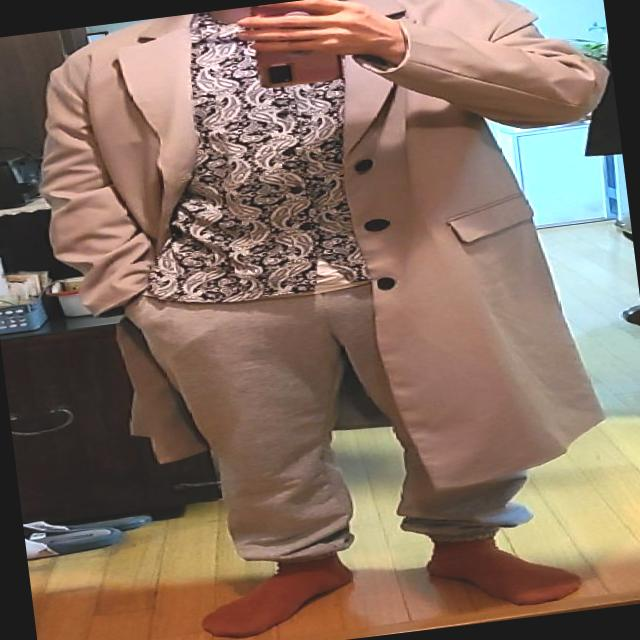coat: (20, 0, 640, 537)
shirt: (103, 0, 361, 319)
trainingpants: (126, 246, 534, 580)
